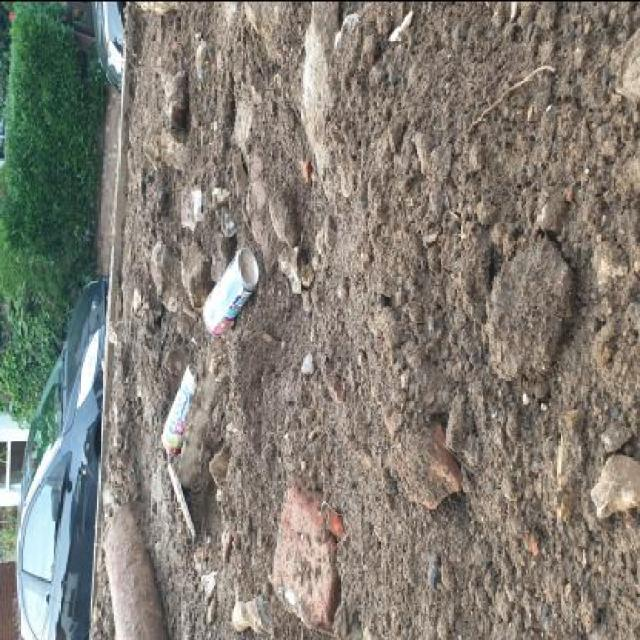metal: (204, 248, 259, 335), (162, 362, 200, 455)
